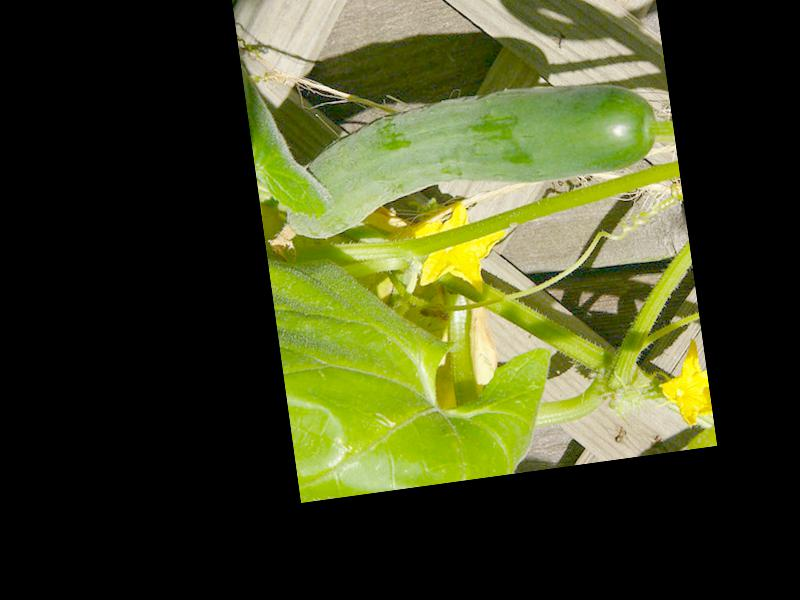Cucumber: (253, 69, 661, 245)
